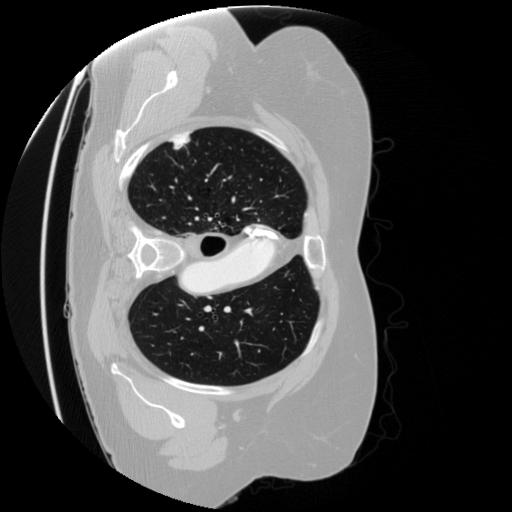nodule: (168, 126, 195, 153)
